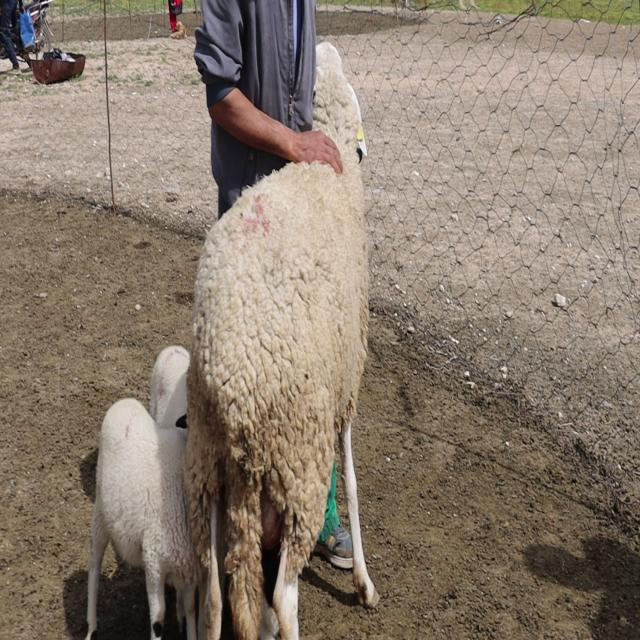Score_2: (184, 42, 378, 639)
